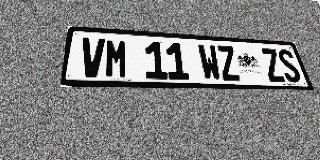1: (144, 41, 168, 79), (165, 42, 189, 80)
M: (105, 39, 128, 79)
S: (276, 49, 303, 82)
V: (79, 37, 105, 78)
W: (197, 44, 223, 81)
Z: (216, 45, 242, 81), (260, 48, 287, 82)
